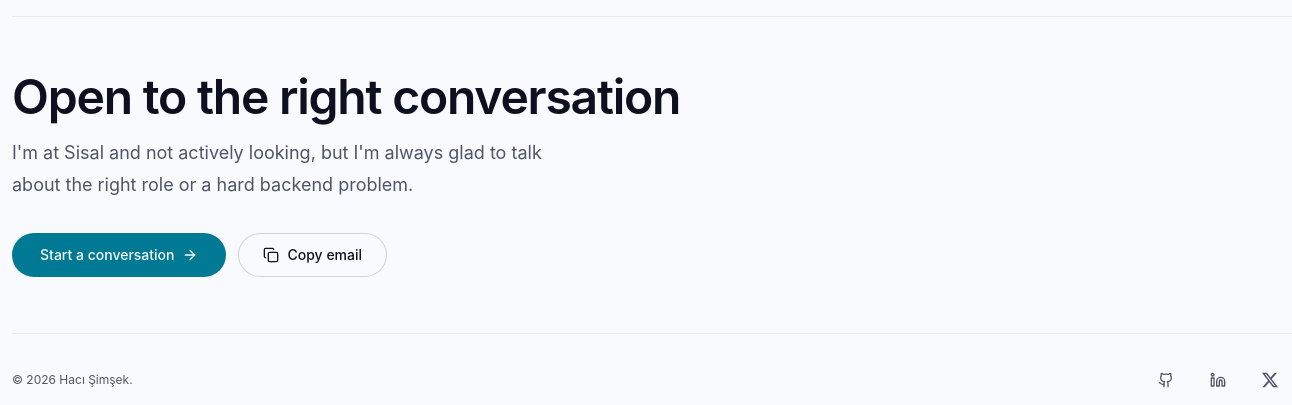
Test: Footer › copies the email address and confirms it
What coordinates should you click on to do the following:
click the button "Copy email"
I would click on:
 (313, 255)
Its box is [238,233,387,277].
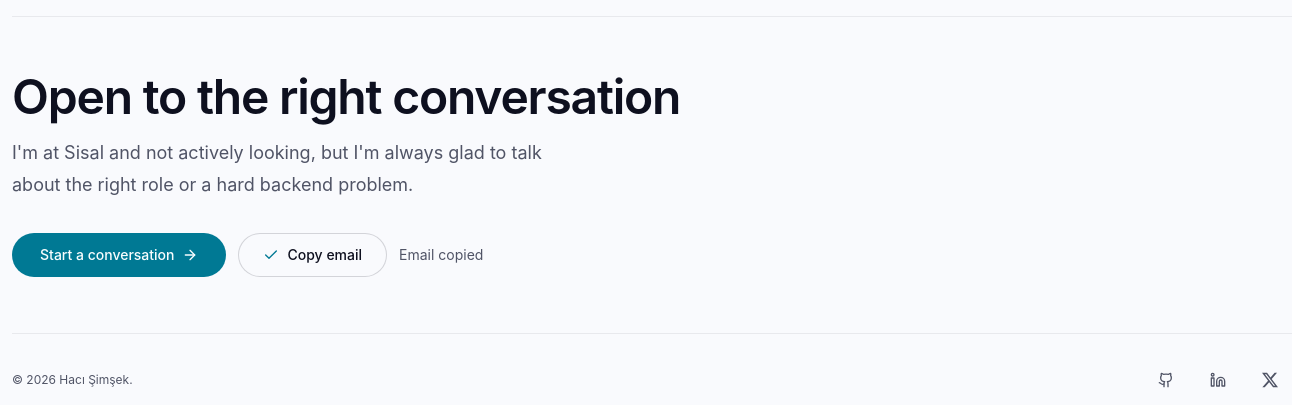
Result: the message reads "Email copied" at [399,246,483,263]
